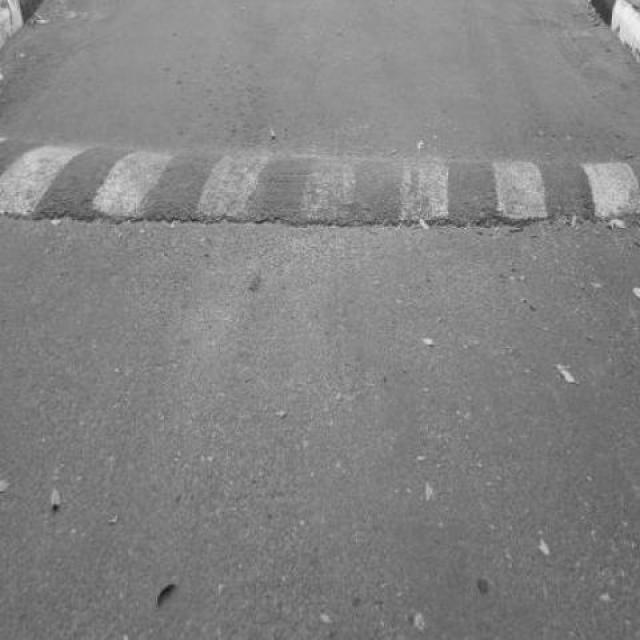Speed Bump: (0, 137, 639, 236)
